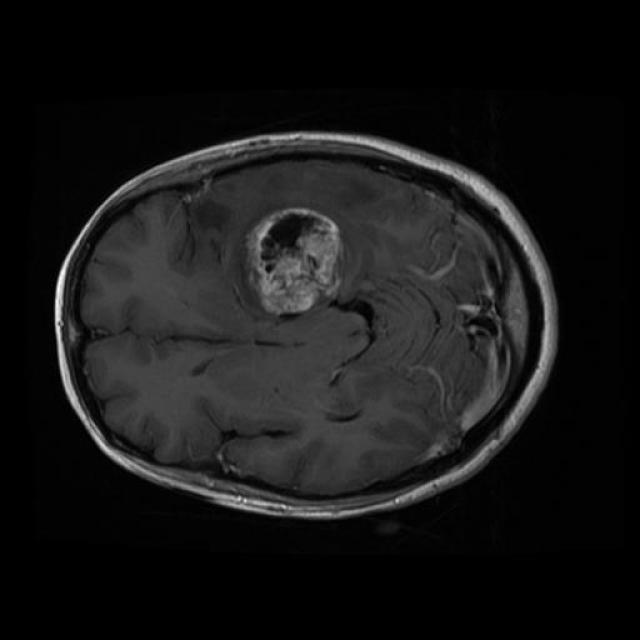Glioma: (247, 208, 343, 316)
